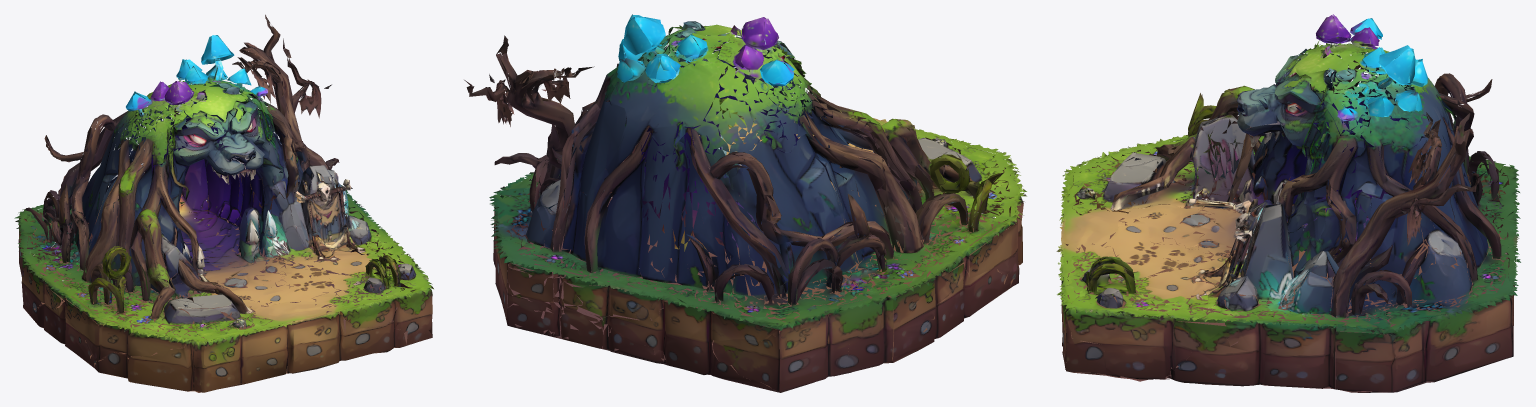
File: WolfDen.fbx
3 views of the same model, side by side, from view 1: azimuth 30°, elevation 25°; view 2: azimuth 150°, elevation 25°; view 3: azimuth 270°, elevation 25° (orthographic). The views are drawn at different scales.
Parts seen in each view (by area): view 1: node_0; view 2: node_0; view 3: node_0.
Part boxes in pixels (x1,y1,x2,y2): node_0: (14,14,433,392); node_0: (464,14,1026,392); node_0: (1056,14,1520,392).
Size of the model in its own units: 153 by 101 by 152.
1 material, 1 textured.
